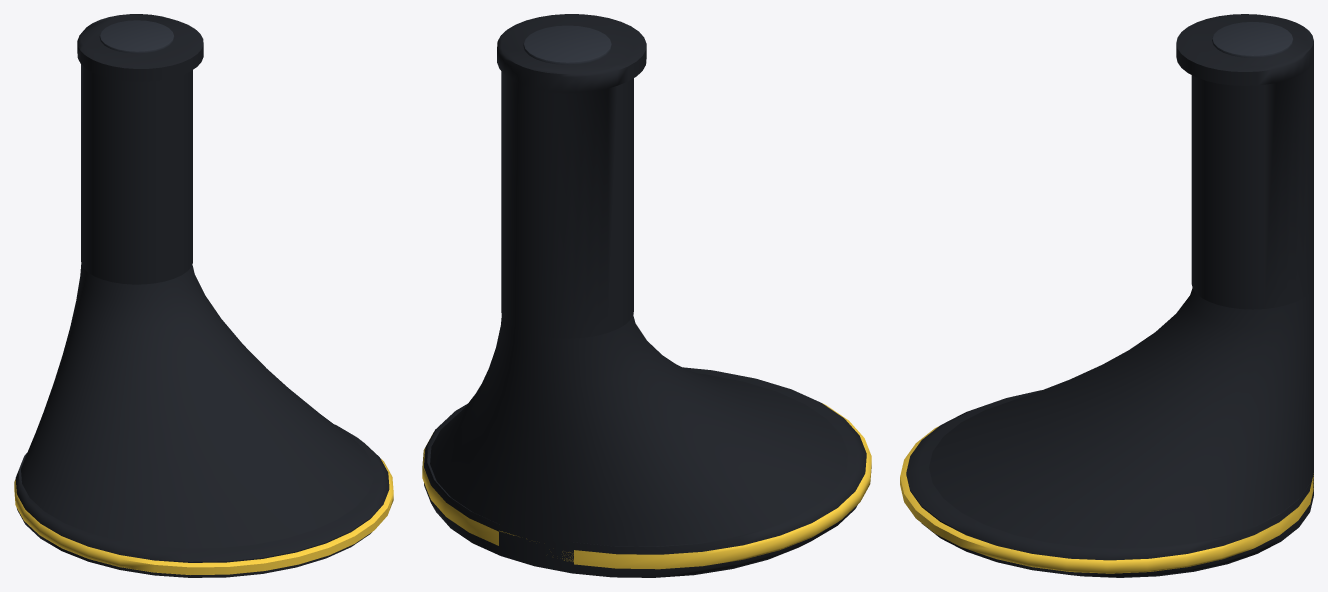
The model's file is coifa_conica_preta.glb.
The picture shows the model from 3 angles, left to right: view 1: azimuth 30°, elevation 25°; view 2: azimuth 150°, elevation 25°; view 3: azimuth 270°, elevation 25°; orthographic projection. The views are drawn at different scales.
Parts seen in each view (by area): view 1: coifa_conica_preta; view 2: coifa_conica_preta; view 3: coifa_conica_preta.
Boxes of the visible parts, <box> form: coifa_conica_preta: <box>14,14,393,577</box>; coifa_conica_preta: <box>422,14,871,577</box>; coifa_conica_preta: <box>900,14,1313,577</box>.
Bounding box in the file's own units: 0.812 × 0.994 × 0.812.
Materials: 2 (1 with a texture image).
